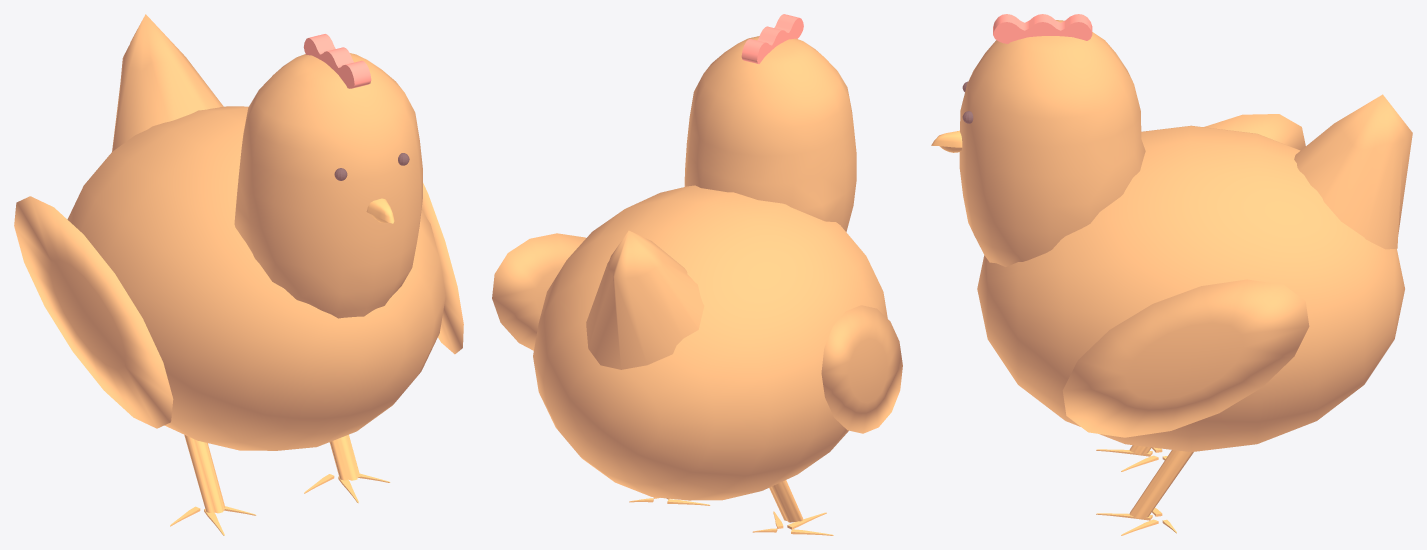
The model's file is brown chicken.fbx.
3 views of the same model, side by side, from view 1: azimuth 30°, elevation 25°; view 2: azimuth 150°, elevation 25°; view 3: azimuth 270°, elevation 25° (orthographic). The views are drawn at different scales.
Parts seen in each view (by area): view 1: body, head, pCylinder4, tail, pCylinder3, head_thing, pCylinder1, pCylinder2; view 2: body, head, tail, pCylinder4, pCylinder3, head_thing, pCylinder1; view 3: body, head, pCylinder3, tail, head_thing, pCylinder4, pCylinder2.
Part boxes in pixels (bbox=[...]): body: bbox=[67, 106, 445, 450]; head: bbox=[234, 53, 422, 318]; pCylinder4: bbox=[14, 196, 173, 428]; tail: bbox=[112, 14, 223, 151]; pCylinder3: bbox=[421, 183, 463, 354]; head_thing: bbox=[303, 34, 371, 88]; pCylinder1: bbox=[184, 435, 225, 513]; pCylinder2: bbox=[329, 434, 360, 480]; body: bbox=[533, 185, 887, 500]; head: bbox=[684, 36, 856, 231]; tail: bbox=[586, 230, 704, 369]; pCylinder4: bbox=[821, 305, 902, 433]; pCylinder3: bbox=[492, 233, 585, 350]; head_thing: bbox=[741, 14, 803, 63]; pCylinder1: bbox=[769, 480, 803, 522]; body: bbox=[977, 125, 1404, 452]; head: bbox=[959, 20, 1145, 266]; pCylinder3: bbox=[1062, 279, 1309, 437]; tail: bbox=[1294, 94, 1412, 249]; head_thing: bbox=[993, 14, 1092, 43]; pCylinder4: bbox=[1203, 114, 1305, 150]; pCylinder2: bbox=[1129, 450, 1193, 518].
Size of the model in its own units: 2.37 by 3.08 by 2.84.
